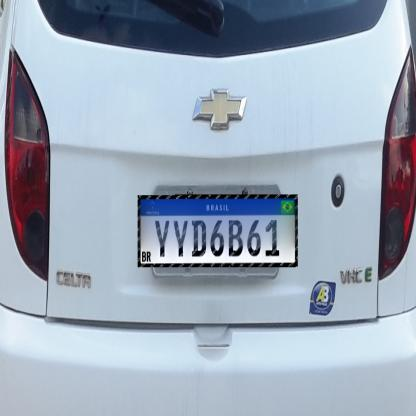PlacaM: (138, 195, 298, 268)
